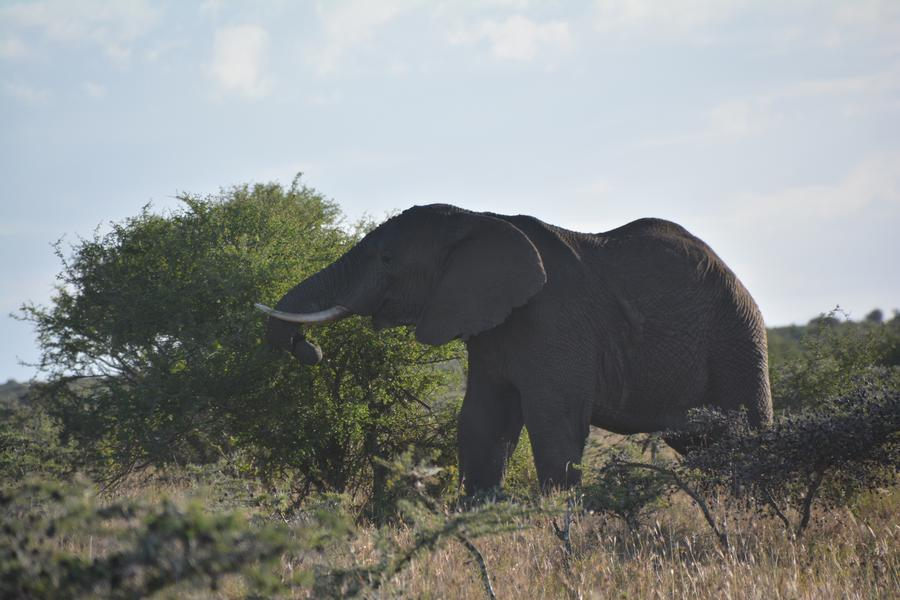elephant: (269, 202, 772, 452)
